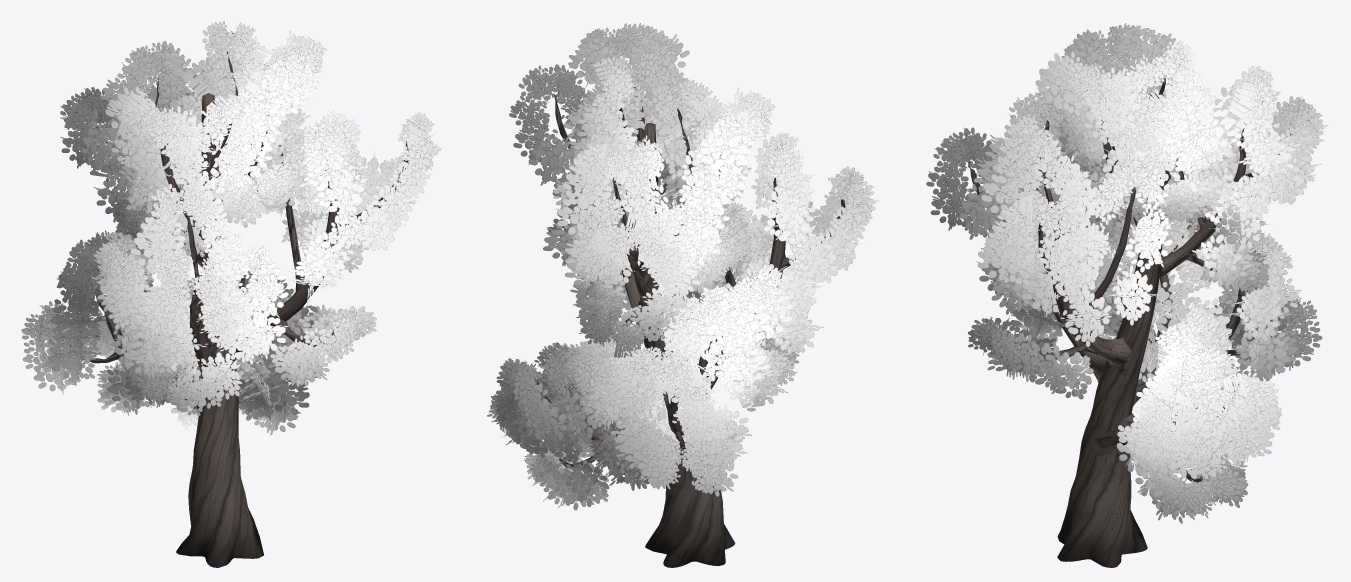
File: TwistedTree_3.glb
3 views of the same model, side by side, from view 1: azimuth 30°, elevation 25°; view 2: azimuth 150°, elevation 25°; view 3: azimuth 270°, elevation 25° (orthographic). The views are drawn at different scales.
Visible parts, largest first — view 1: TwistedTree_3; view 2: TwistedTree_3; view 3: TwistedTree_3.
Part boxes in pixels (x1,y1,x2,y2): TwistedTree_3: (21,21,441,567); TwistedTree_3: (487,23,879,567); TwistedTree_3: (926,23,1327,567).
Bounding box in the file's own units: 11.36 × 16.07 × 11.51.
Materials: 2 (2 with a texture image).
